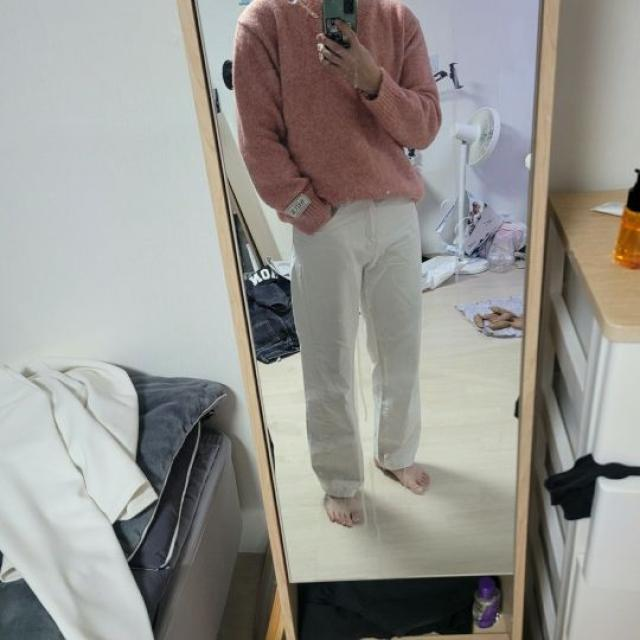cottonpants: (292, 200, 423, 504)
sweater: (228, 0, 438, 215)
